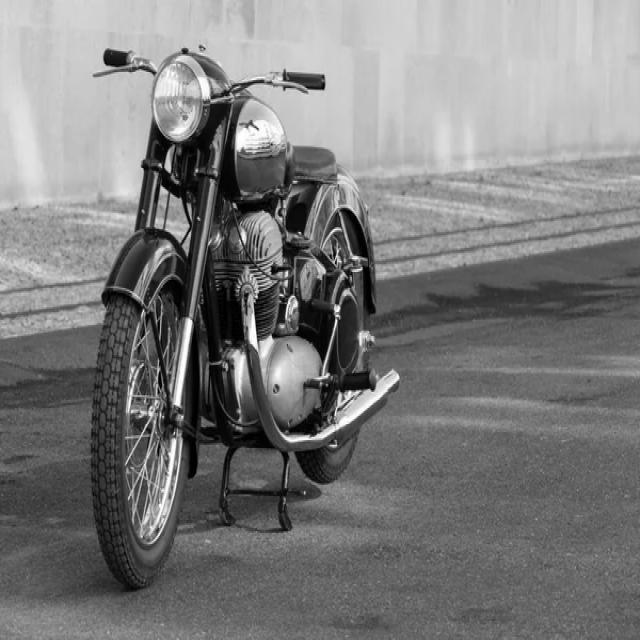Motorcycle: (91, 48, 400, 589)
